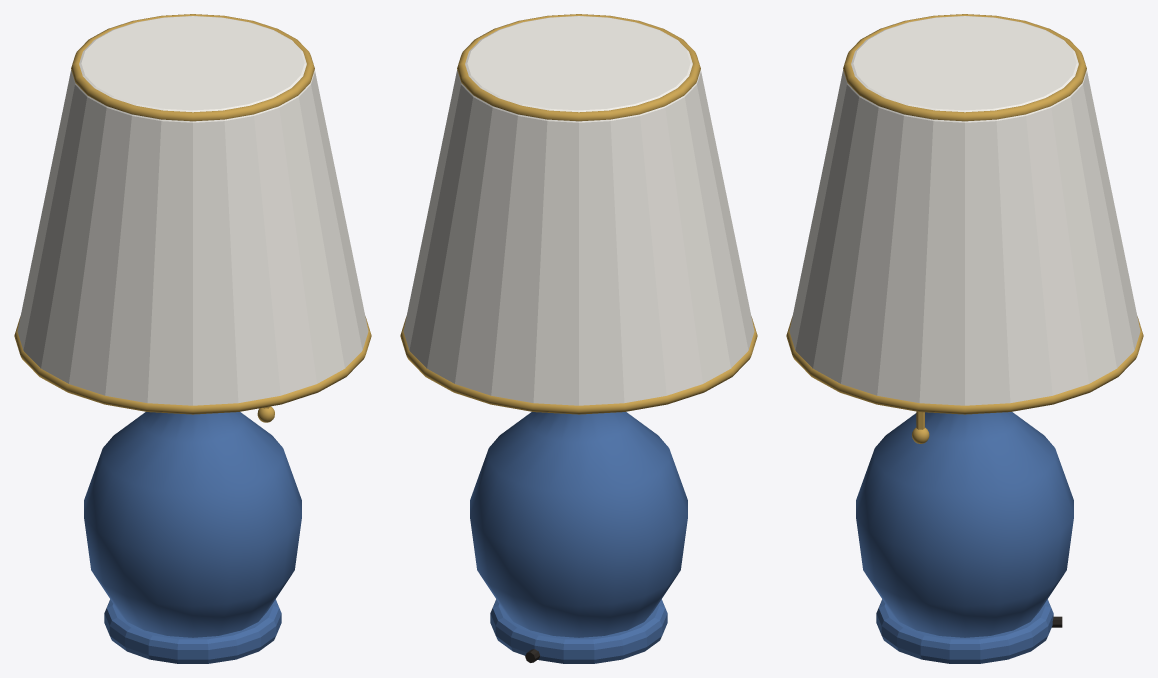
File: hh_cat_bedside_lamp.glb
3 renders of one model, left to right at view 1: azimuth 30°, elevation 25°; view 2: azimuth 150°, elevation 25°; view 3: azimuth 270°, elevation 25°, orthographic.
Parts seen in each view (by area): view 1: shade, body, foot, shade_trim.001, shade_trim; view 2: shade, body, foot, shade_trim.001, shade_trim; view 3: shade, body, foot, shade_trim.001, shade_trim.
Boxes of the visible parts, left/top/right/bottom form: shade: left=17, top=16, right=368, bottom=405; body: left=84, top=412, right=301, bottom=637; foot: left=104, top=599, right=281, bottom=663; shade_trim.001: left=71, top=14, right=314, bottom=121; shade_trim: left=14, top=316, right=371, bottom=414; shade: left=403, top=16, right=754, bottom=405; body: left=470, top=412, right=687, bottom=637; foot: left=490, top=599, right=667, bottom=663; shade_trim.001: left=457, top=14, right=700, bottom=121; shade_trim: left=400, top=316, right=757, bottom=414; shade: left=789, top=16, right=1140, bottom=405; body: left=856, top=412, right=1073, bottom=637; foot: left=876, top=599, right=1053, bottom=663; shade_trim.001: left=843, top=14, right=1086, bottom=121; shade_trim: left=786, top=316, right=1143, bottom=414.
Bounding box in the file's own units: 0.24 × 0.42 × 0.24.
